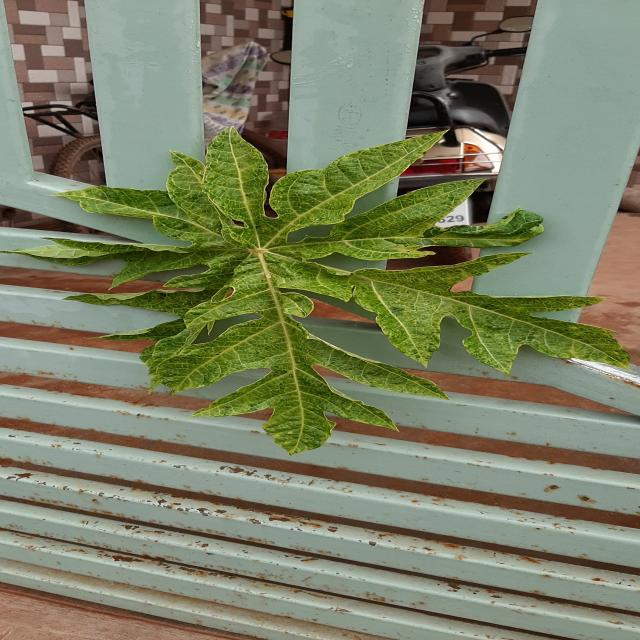papaya: (8, 130, 629, 454)
